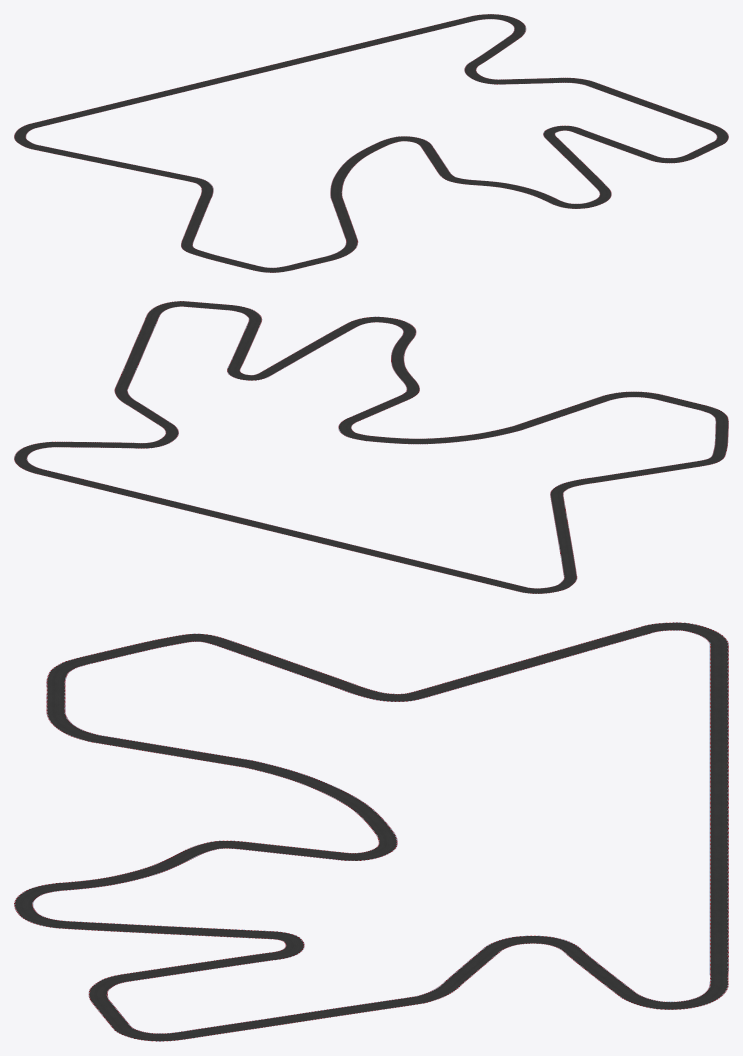
The model's file is road.fbx.
3 renders of one model, top to bottom at view 1: azimuth 30°, elevation 25°; view 2: azimuth 150°, elevation 25°; view 3: azimuth 270°, elevation 25°, orthographic. The views are drawn at different scales.
Parts seen in each view (by area): view 1: road; view 2: road; view 3: road.
Boxes of the visible parts, left/top/right/bottom form: road: left=14, top=14, right=728, bottom=272; road: left=14, top=301, right=728, bottom=593; road: left=14, top=622, right=728, bottom=1041.
Size of the model in its own units: 1335 by 2.27e-06 by 962.
